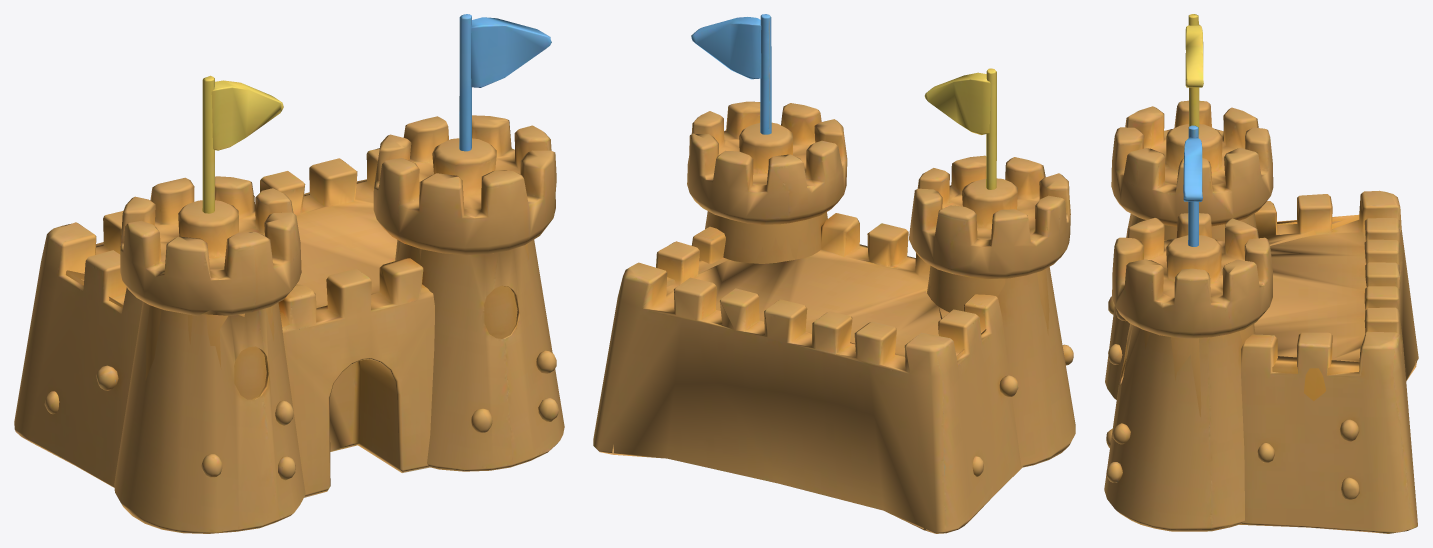
Rendered from sandcastle.glb.
The picture shows the model from 3 angles, left to right: view 1: azimuth 30°, elevation 25°; view 2: azimuth 150°, elevation 25°; view 3: azimuth 270°, elevation 25°; orthographic projection. The views are drawn at different scales.
Parts seen in each view (by area): view 1: geometry_0; view 2: geometry_0; view 3: geometry_0.
Boxes of the visible parts, x1=… form: geometry_0: x1=14, y1=14, x2=564, y2=533; geometry_0: x1=593, y1=14, x2=1075, y2=533; geometry_0: x1=1104, y1=14, x2=1418, y2=533.
Size of the model in its own units: 1 by 0.9697 by 0.7385.
1 material, 1 textured.
